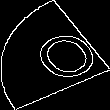O_SE: (12, 22, 98, 88)
